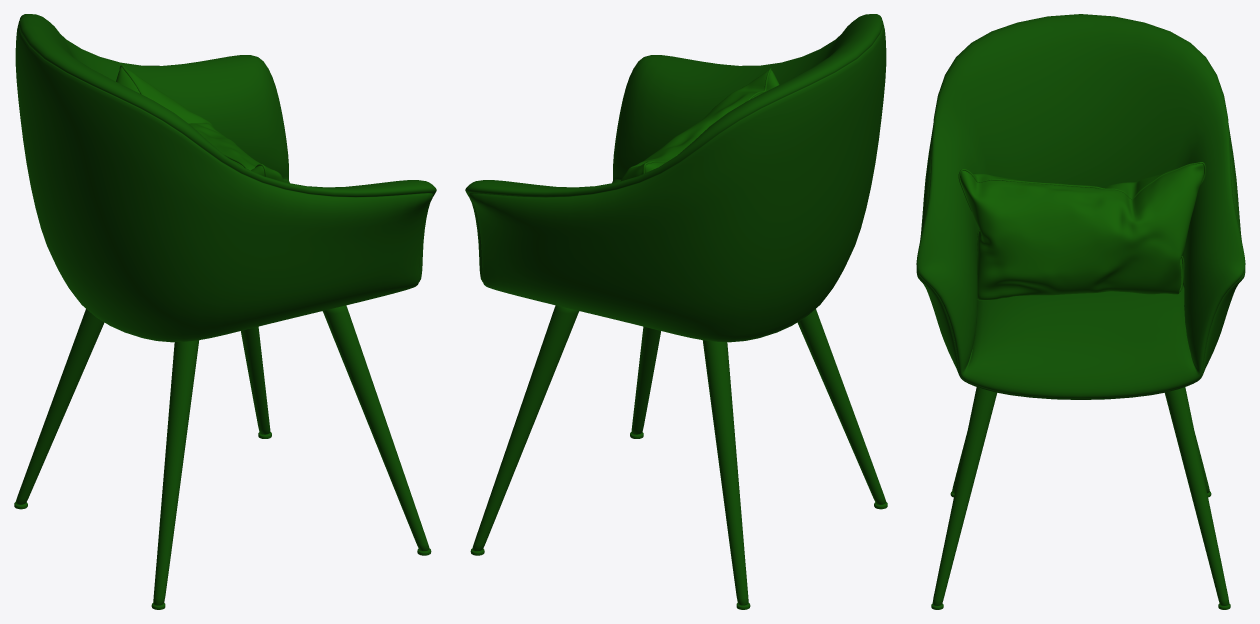
File: Green_Leather_Chair.glb
3 renders of one model, left to right at view 1: azimuth 30°, elevation 25°; view 2: azimuth 150°, elevation 25°; view 3: azimuth 270°, elevation 25°, orthographic. The views are drawn at different scales.
Visible parts, largest first — view 1: koltuk; view 2: koltuk; view 3: koltuk.
Boxes of the visible parts, box(x1,y1,x2,y2) form: koltuk: box(14, 14, 436, 609); koltuk: box(465, 14, 887, 609); koltuk: box(916, 14, 1245, 609).
Bounding box in the file's own units: 0.7158 × 1.11 × 0.7122.
